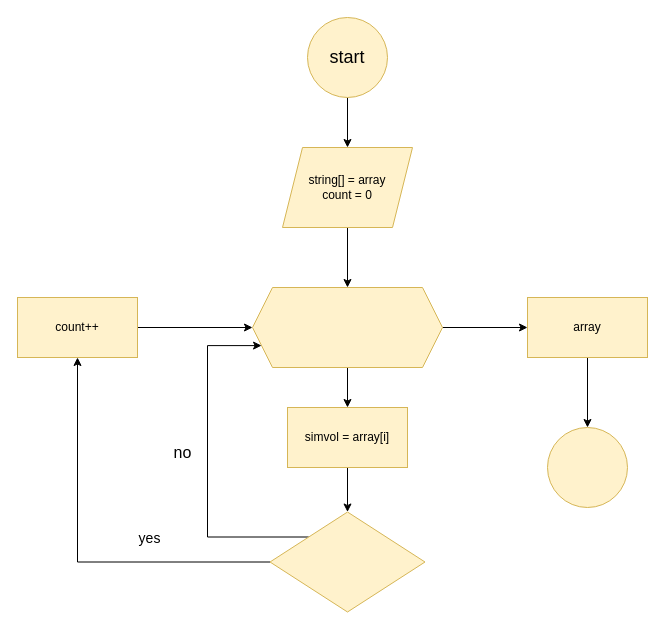
This 665x630 diagram has some shape labels left out. The centre of each missing label's shape, as x and y in pixels:
"end" belongs at [587,467].
"i = 0; i < array.Lengh; i++" belongs at [347,327].
"simvol.Length <=3" belongs at [347,561].
